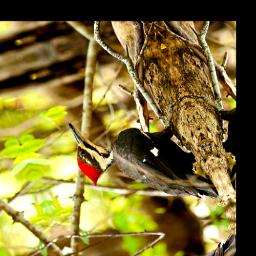Woodpecker: (61, 89, 221, 231)
